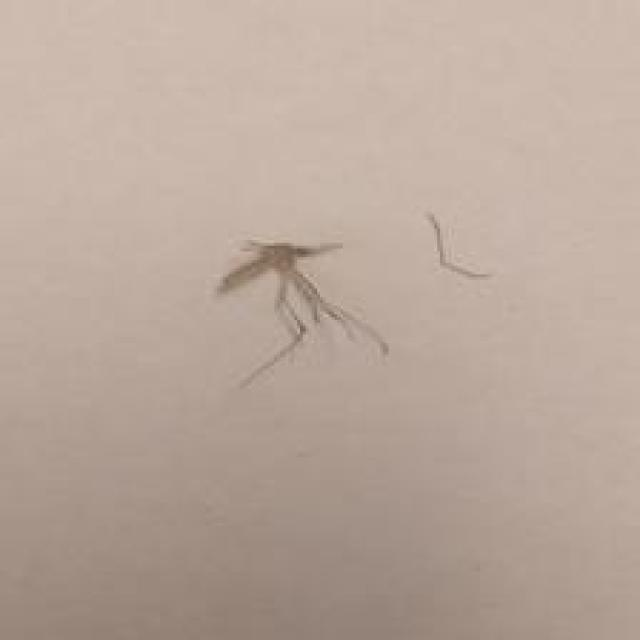Culex: (216, 237, 390, 389)
